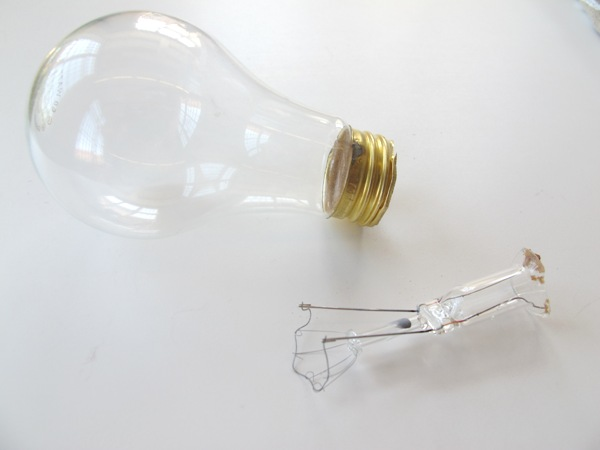Light_bulb: (20, 6, 404, 244)
